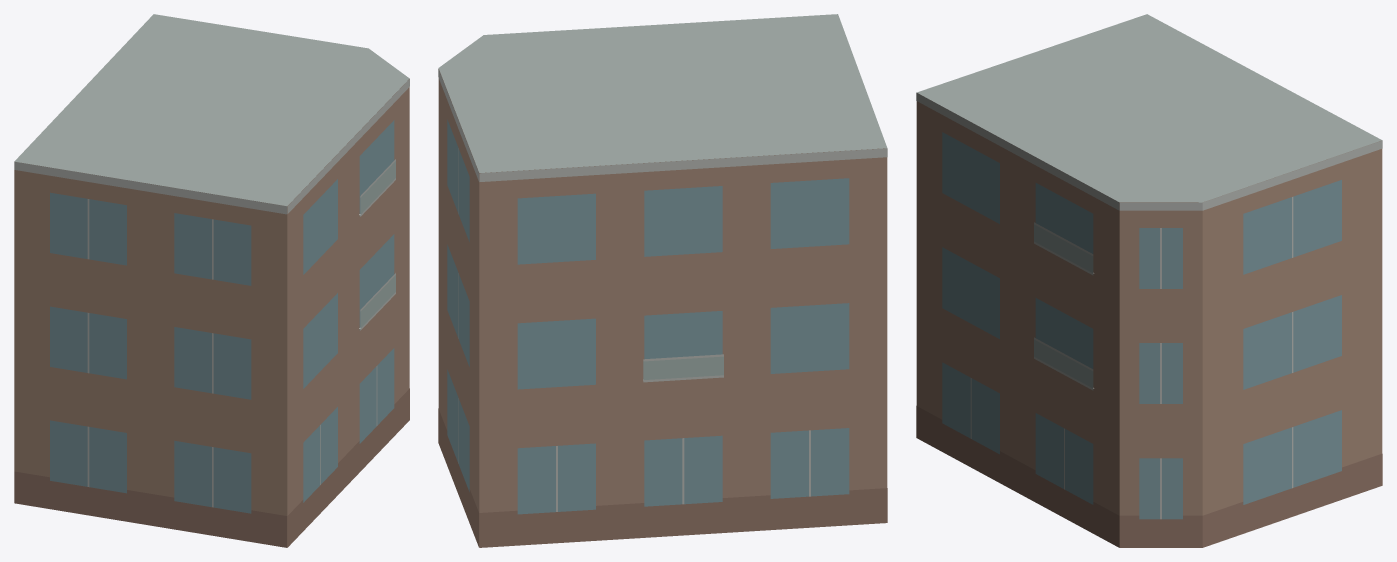
The model's file is survey-upis-32925462.glb.
3 views of the same model, side by side, from view 1: azimuth 30°, elevation 25°; view 2: azimuth 150°, elevation 25°; view 3: azimuth 270°, elevation 25° (orthographic). The views are drawn at different scales.
Parts seen in each view (by area): view 1: survey-upis-32925462.tmp; view 2: survey-upis-32925462.tmp; view 3: survey-upis-32925462.tmp.
Boxes of the visible parts, x1,y1,x2,y2 form: survey-upis-32925462.tmp: (14, 14, 409, 547); survey-upis-32925462.tmp: (438, 14, 887, 547); survey-upis-32925462.tmp: (916, 14, 1382, 547).
Bounding box in the file's own units: 11.83 × 10.1 × 12.35.
